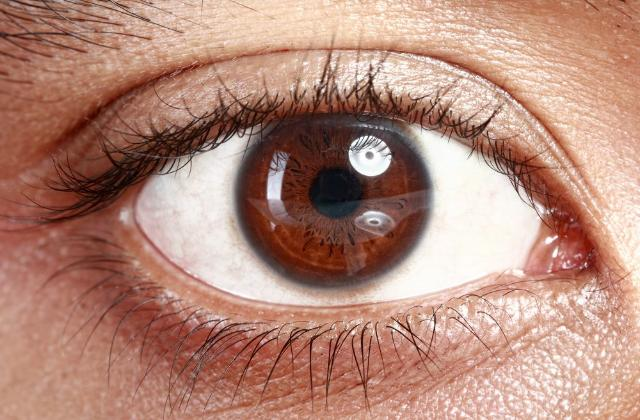eye: (232, 100, 433, 286)
